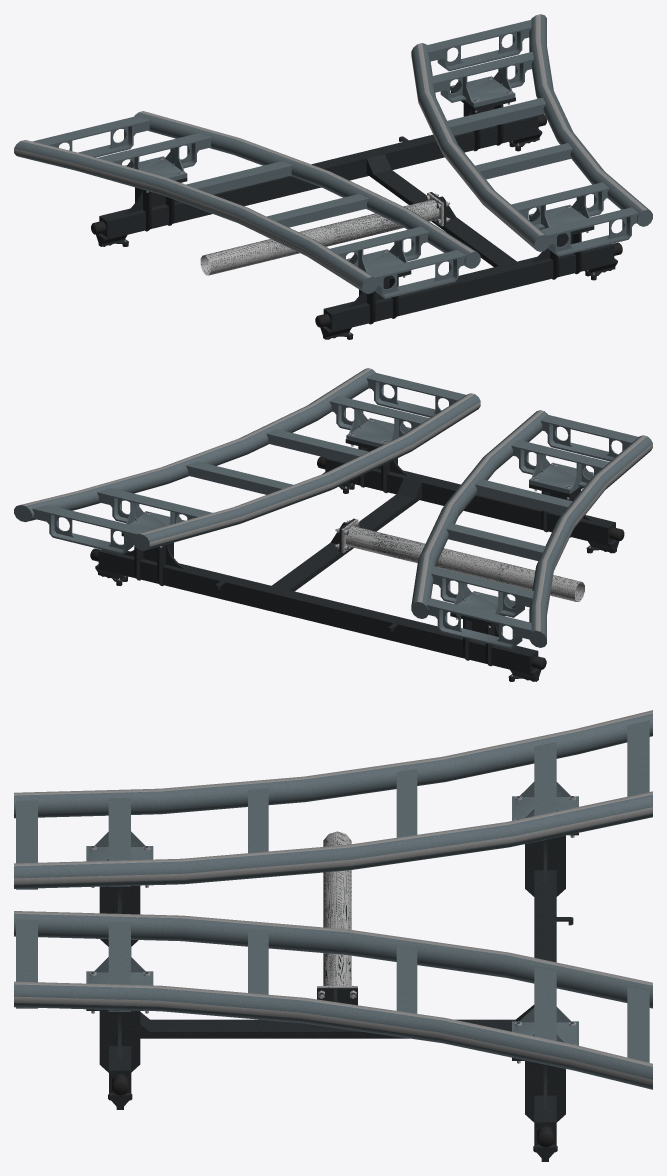
Rendered from Switch Type A.dae.
3 views of the same model, one above another, from view 1: azimuth 30°, elevation 25°; view 2: azimuth 150°, elevation 25°; view 3: azimuth 270°, elevation 25° (orthographic). The views are drawn at different scales.
Visible parts, largest first — view 1: Switch (×18); view 2: Switch (×16); view 3: Switch (×14).
Part boxes in pixels (left/top/right/bottom): Switch (×18): left=14, top=14, right=652, bottom=339; Switch (×16): left=14, top=368, right=652, bottom=681; Switch (×14): left=14, top=710, right=652, bottom=1161.
Bounding box in the file's own units: 183 × 135 × 29.84.
8 materials, 5 textured.
